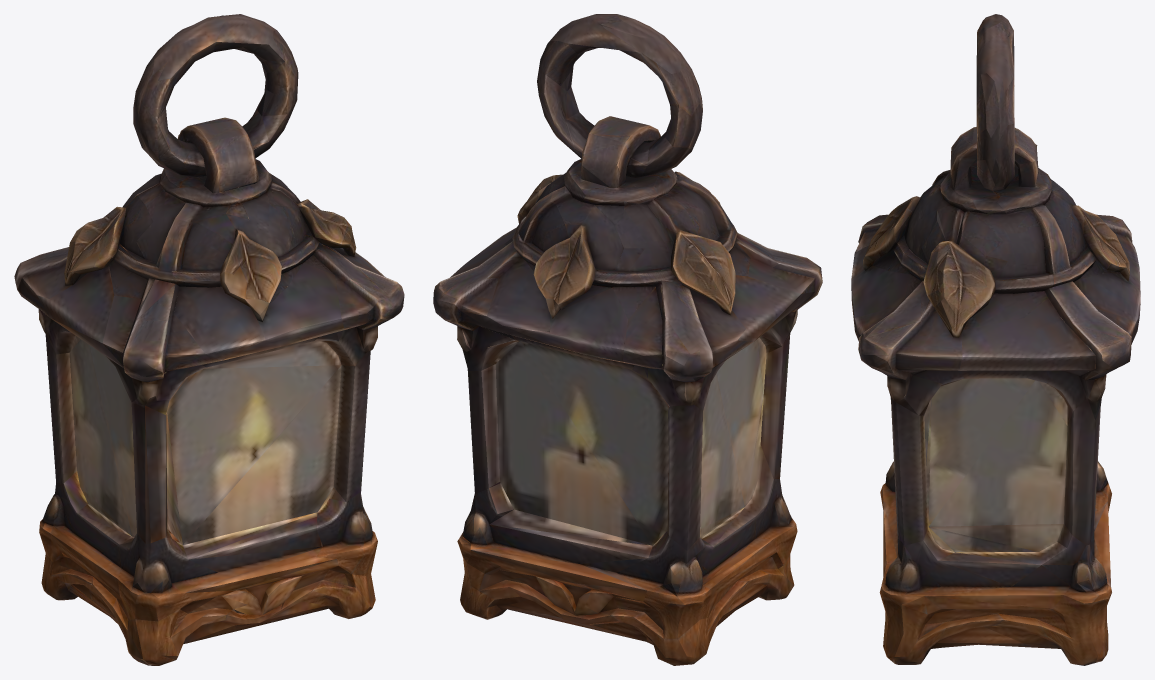
Rendered from PRP-008.glb.
3 views of the same model, side by side, from view 1: azimuth 30°, elevation 25°; view 2: azimuth 150°, elevation 25°; view 3: azimuth 270°, elevation 25° (orthographic).
Parts seen in each view (by area): view 1: PRP-008; view 2: PRP-008; view 3: PRP-008.
Part boxes in pixels (left/top/right/bottom): PRP-008: left=14, top=14, right=404, bottom=665; PRP-008: left=433, top=14, right=822, bottom=665; PRP-008: left=851, top=14, right=1140, bottom=665.
Bounding box in the file's own units: 0.1624 × 0.32 × 0.1416.
1 material, 1 textured.
